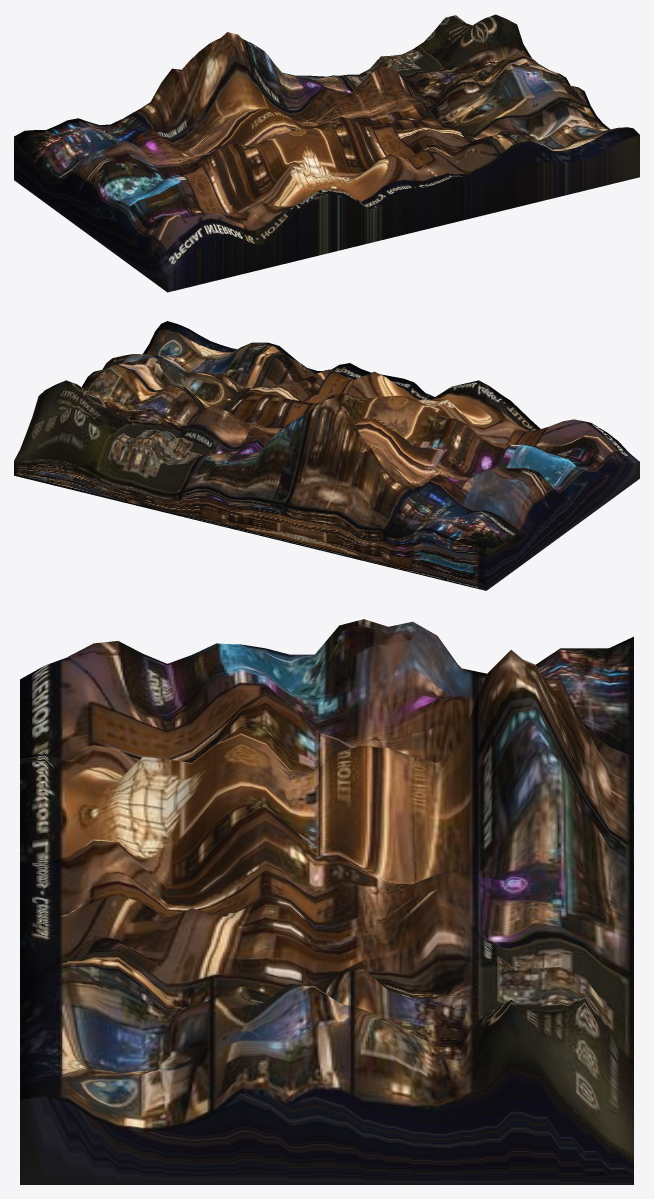
The model's file is SPECIAL_INT_16_Hotel.glb.
3 views of the same model, one above another, from view 1: azimuth 30°, elevation 25°; view 2: azimuth 150°, elevation 25°; view 3: azimuth 270°, elevation 25° (orthographic). The views are drawn at different scales.
Visible parts, largest first — view 1: SPECIAL_INT_16_Hotel; view 2: SPECIAL_INT_16_Hotel; view 3: SPECIAL_INT_16_Hotel.
Part boxes in pixels (box(x1,y1,x2,y2)): SPECIAL_INT_16_Hotel: box(14, 14, 639, 292); SPECIAL_INT_16_Hotel: box(14, 321, 639, 590); SPECIAL_INT_16_Hotel: box(20, 619, 633, 1184).
Bounding box in the file's own units: 2 × 0.51 × 1.13.
1 material, 1 textured.
